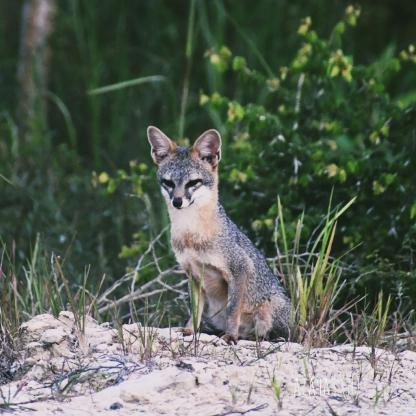zorro: (145, 125, 303, 348)
